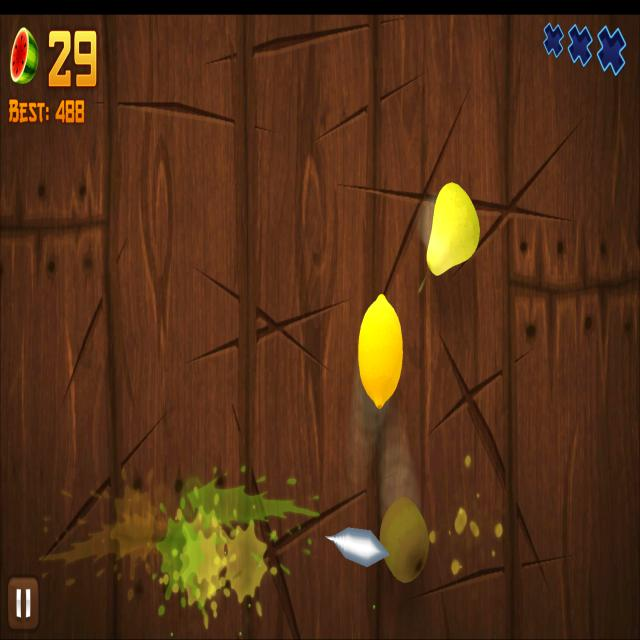fruit: (358, 292, 404, 412), (426, 180, 482, 278), (379, 495, 430, 585)
